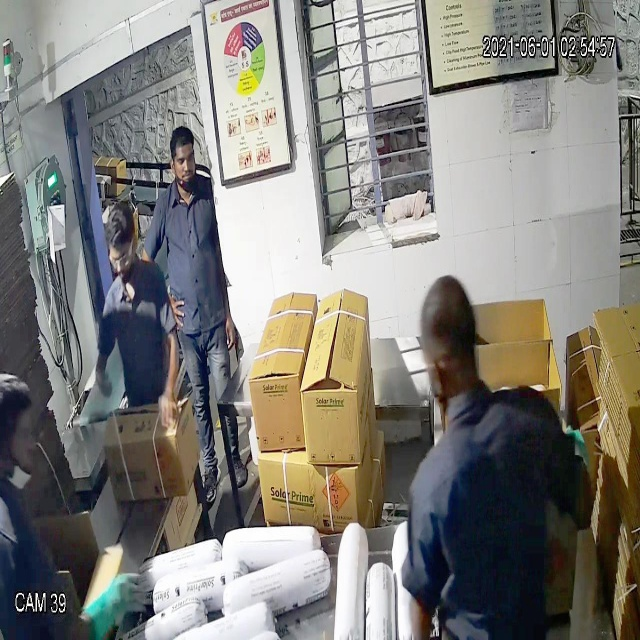Gafas: (102, 236, 139, 274)
